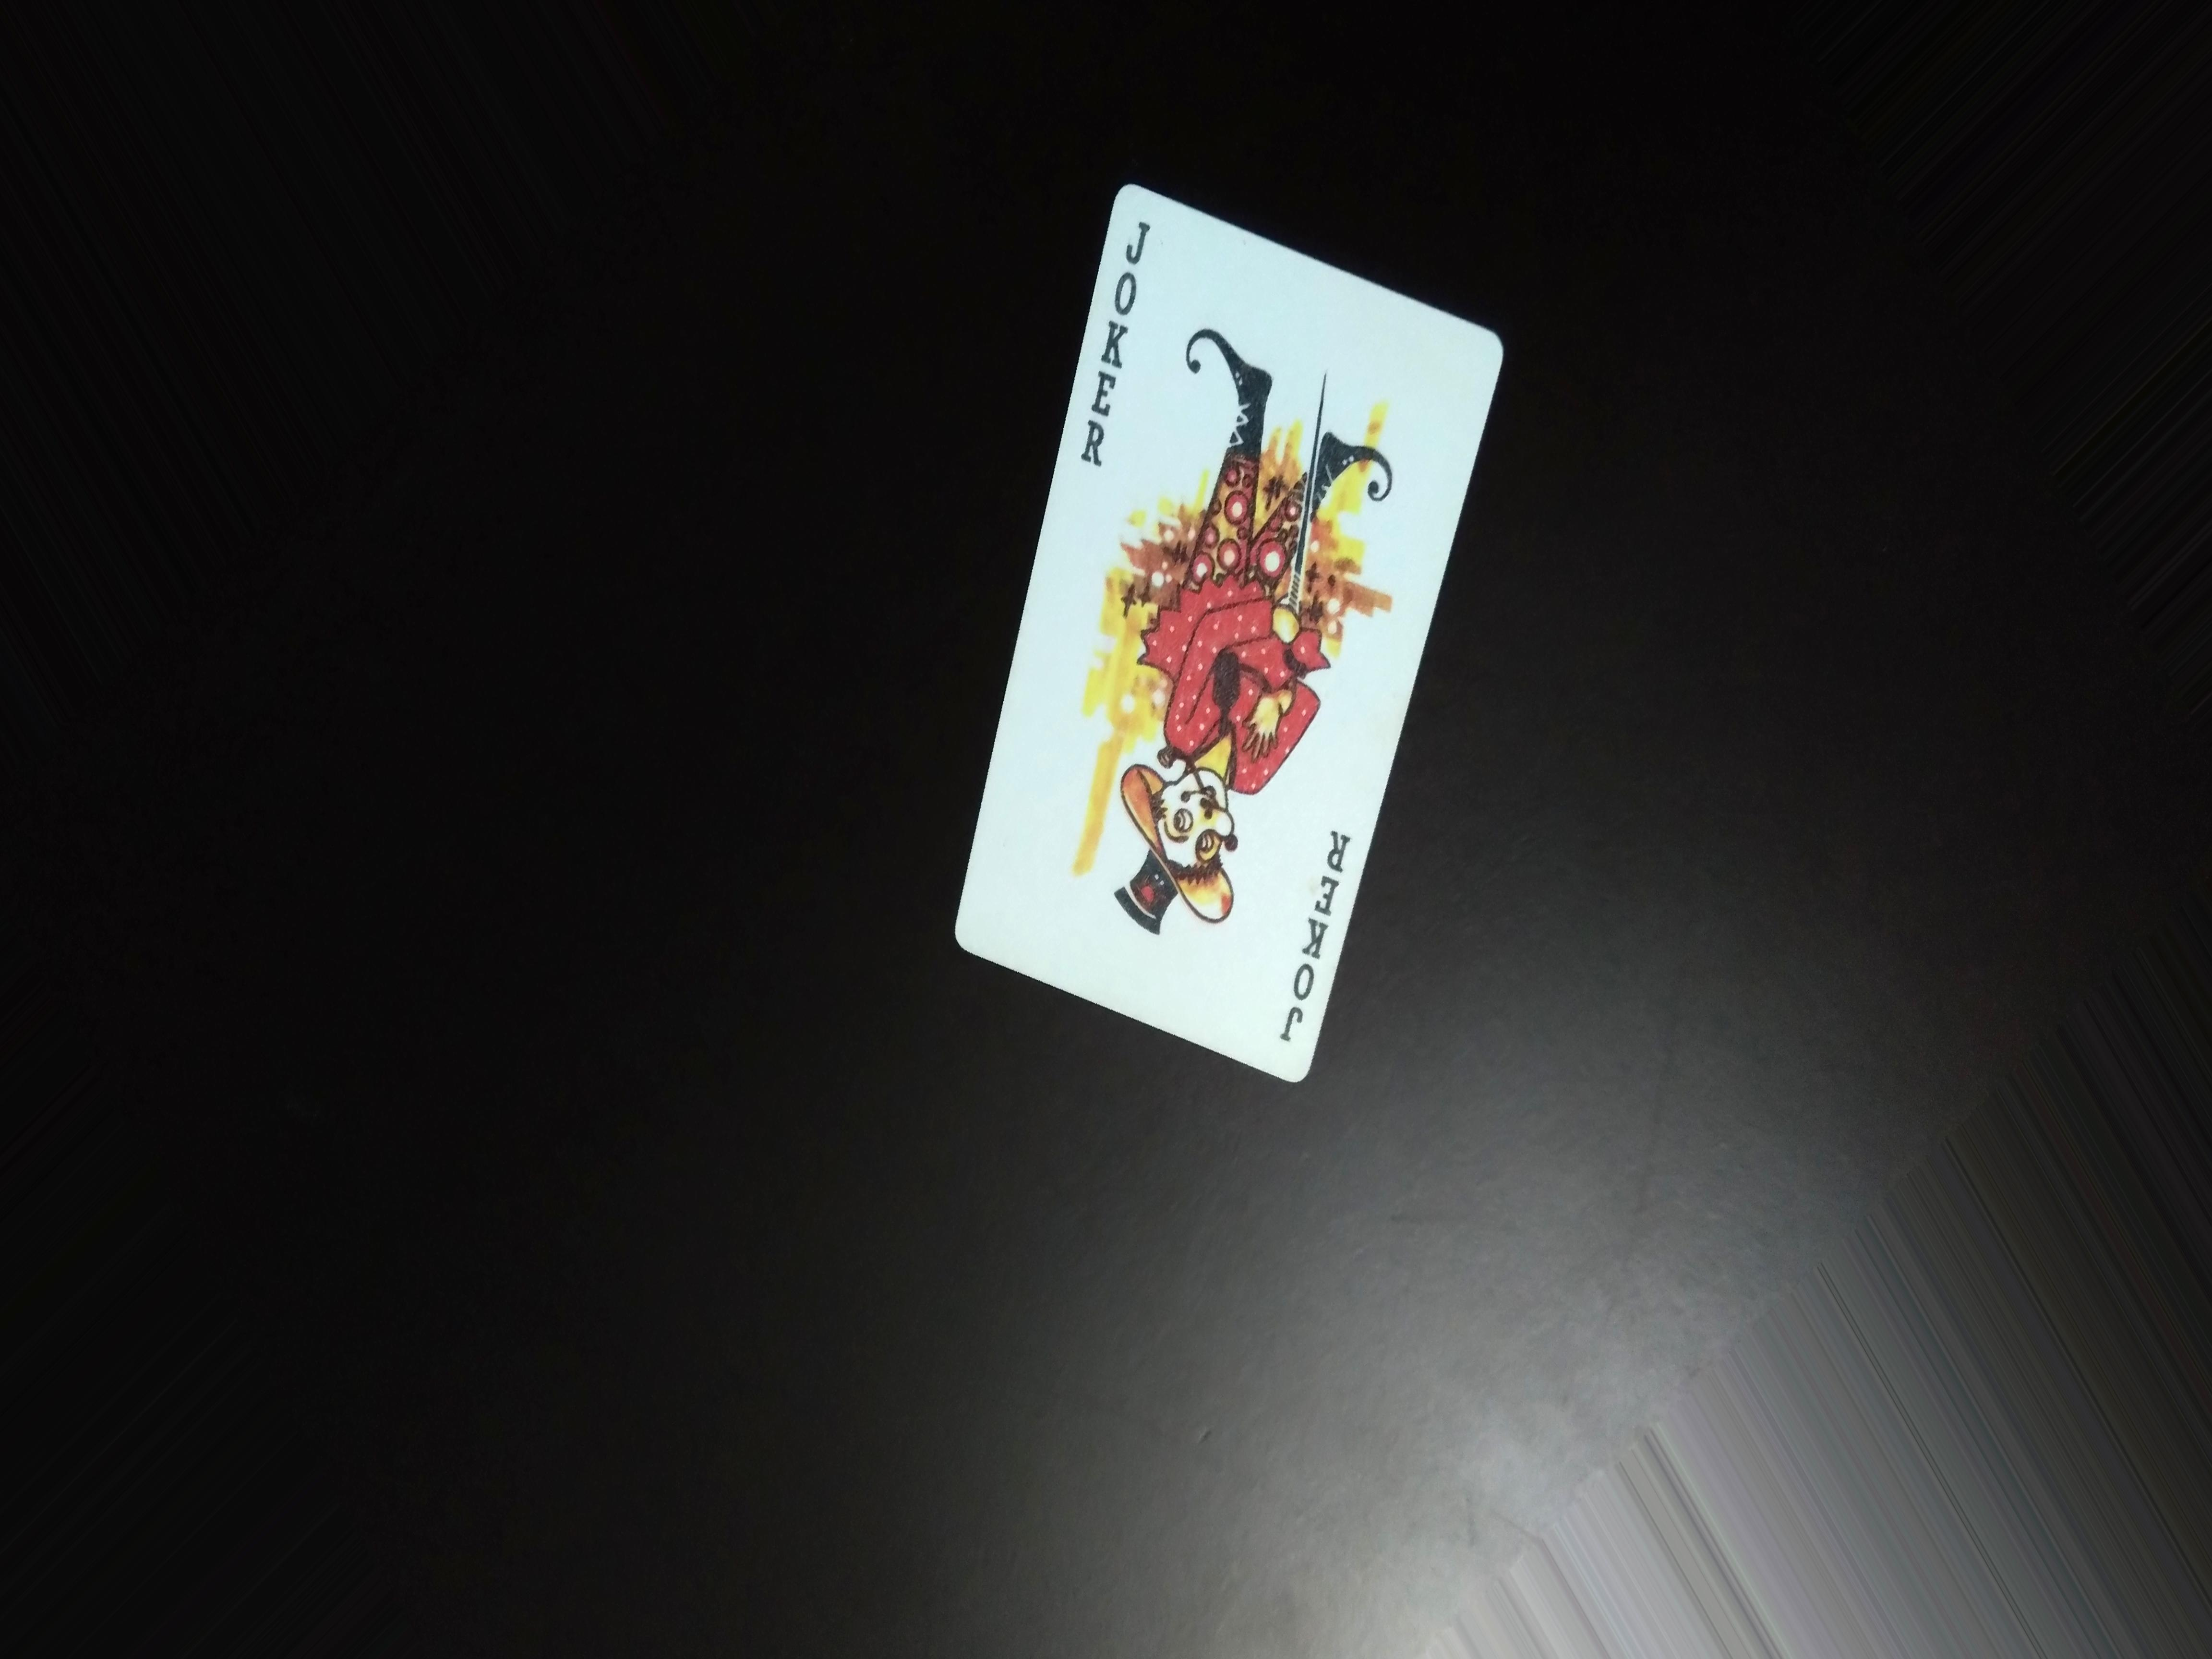JOKER: (1080, 197, 1151, 518)
